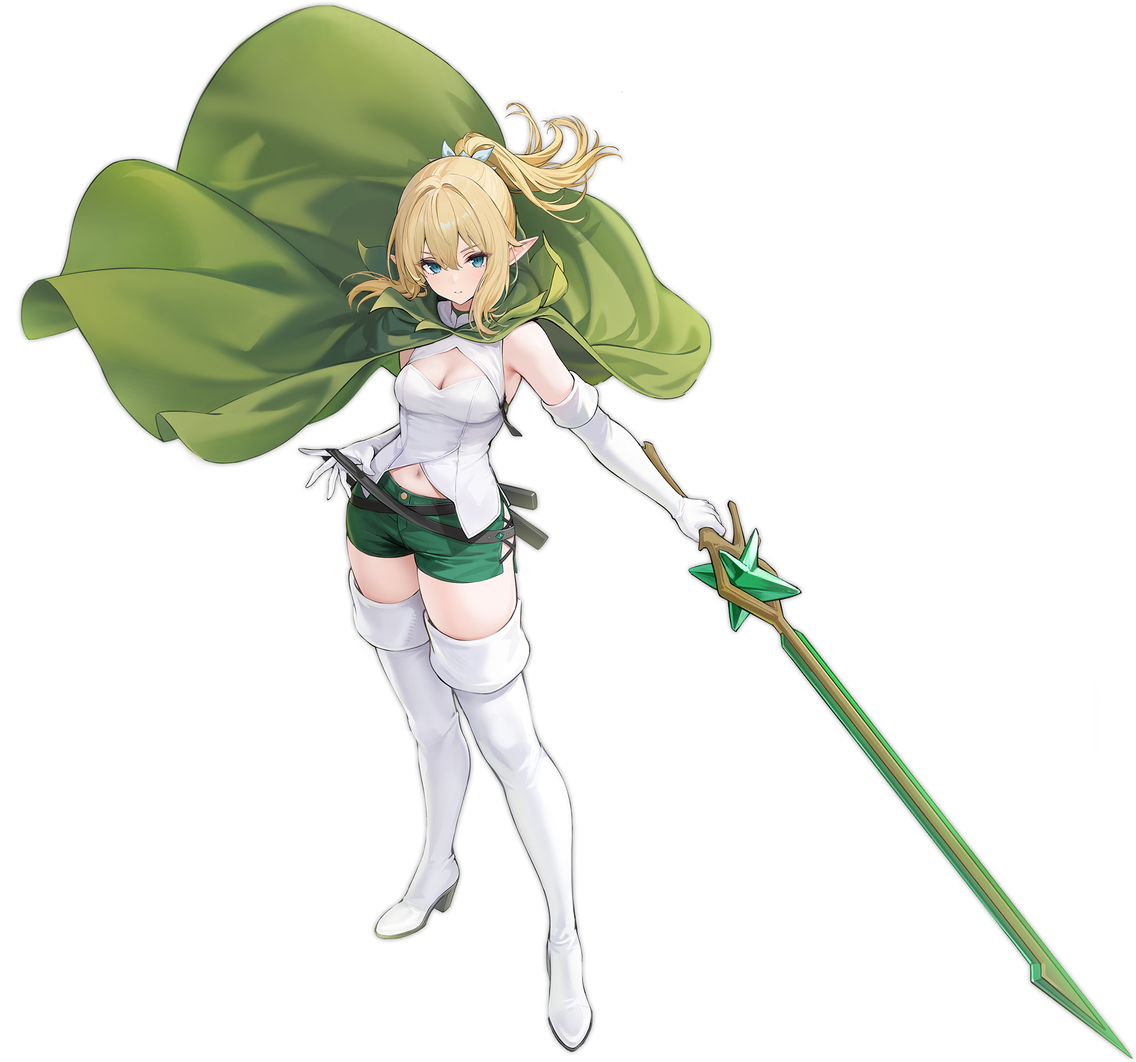person: (86, 66, 895, 1059)
